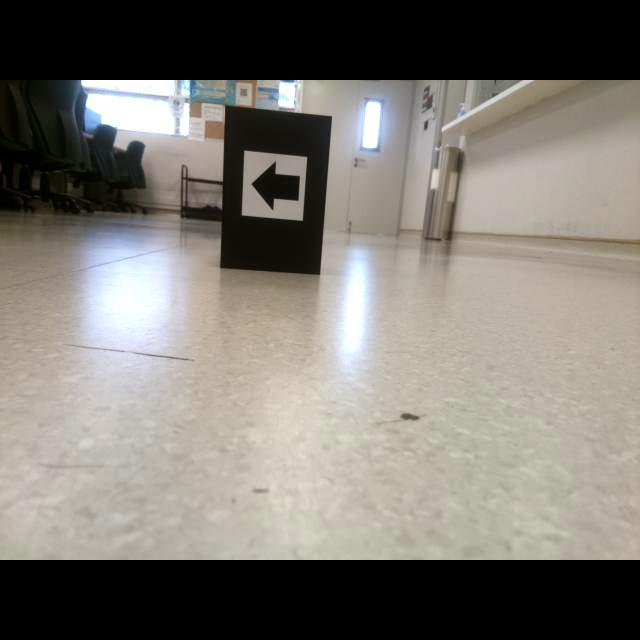LEFT: (250, 160, 301, 211)
